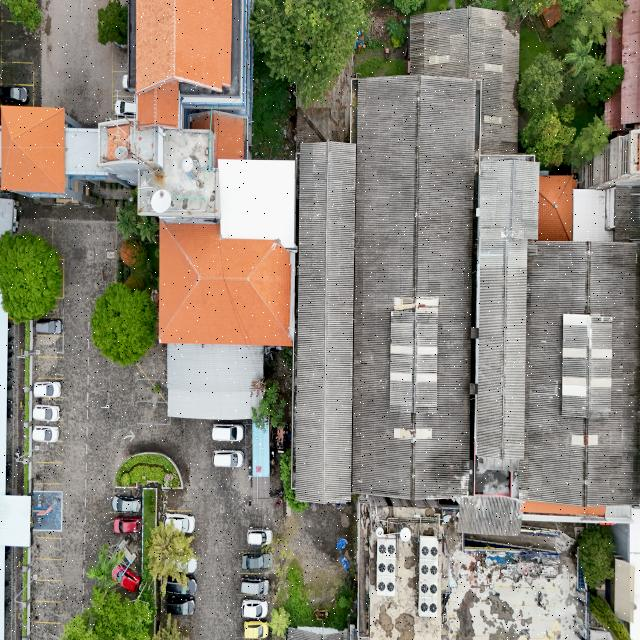Tree: (248, 0, 374, 100), (0, 224, 70, 332), (91, 275, 157, 368), (146, 520, 196, 594), (574, 520, 626, 590), (516, 50, 566, 118), (266, 609, 294, 640)
